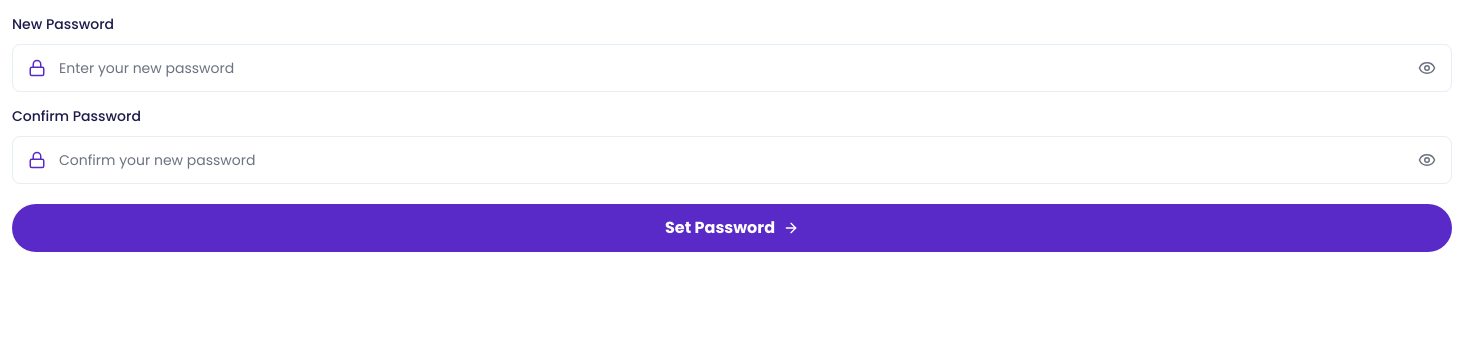
CounselorNewPasswordForm — password rules checklist › stays hidden until the password field is focused, then hides again on blur
Expected: the text "8 character minimum" is not shown
Step 1. Click the password field labelled "New Password" → (732, 68), box x1=12 y1=44 x2=1452 y2=92
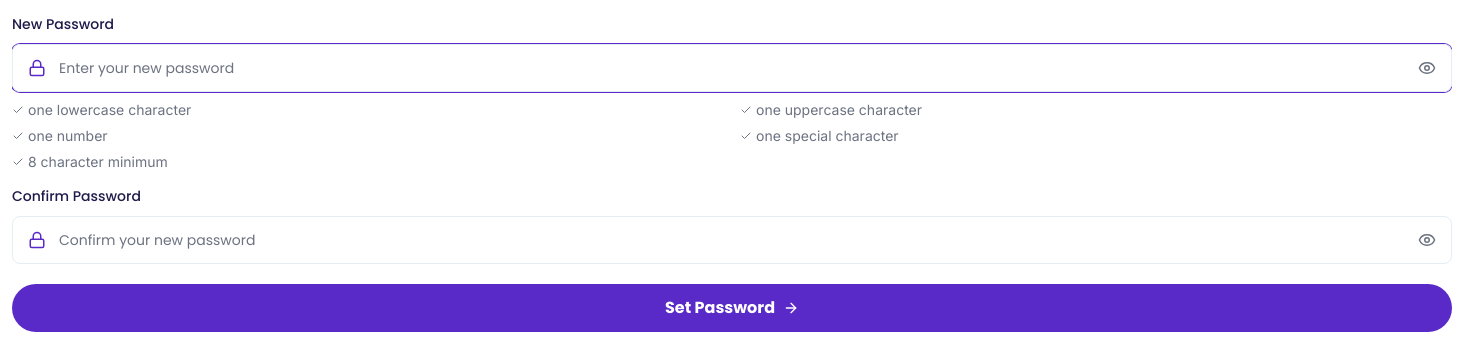
Now the text "8 character minimum" is shown, box x1=12 y1=153 x2=168 y2=170
Step 2. Click the password field labelled "Confirm Password" → (732, 240), box x1=12 y1=216 x2=1452 y2=264
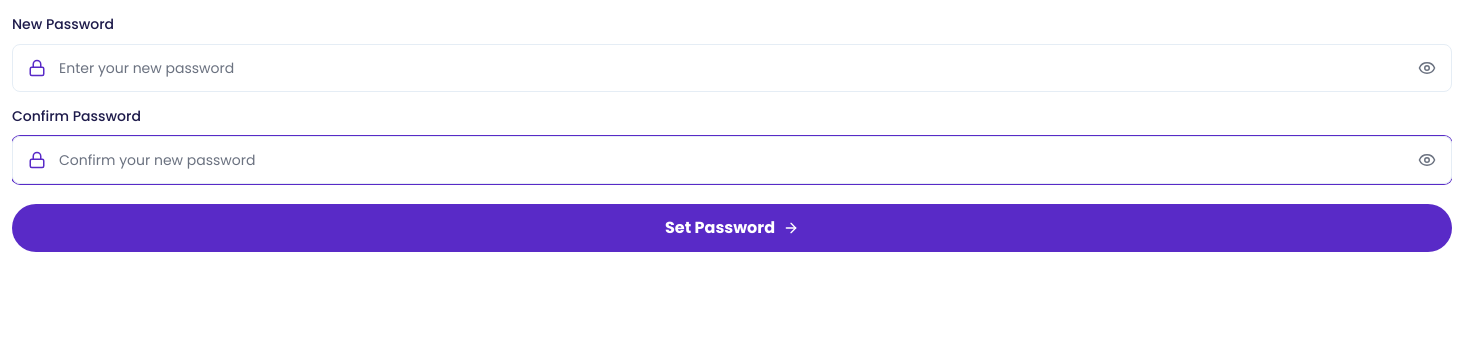
Now the text "8 character minimum" is gone
